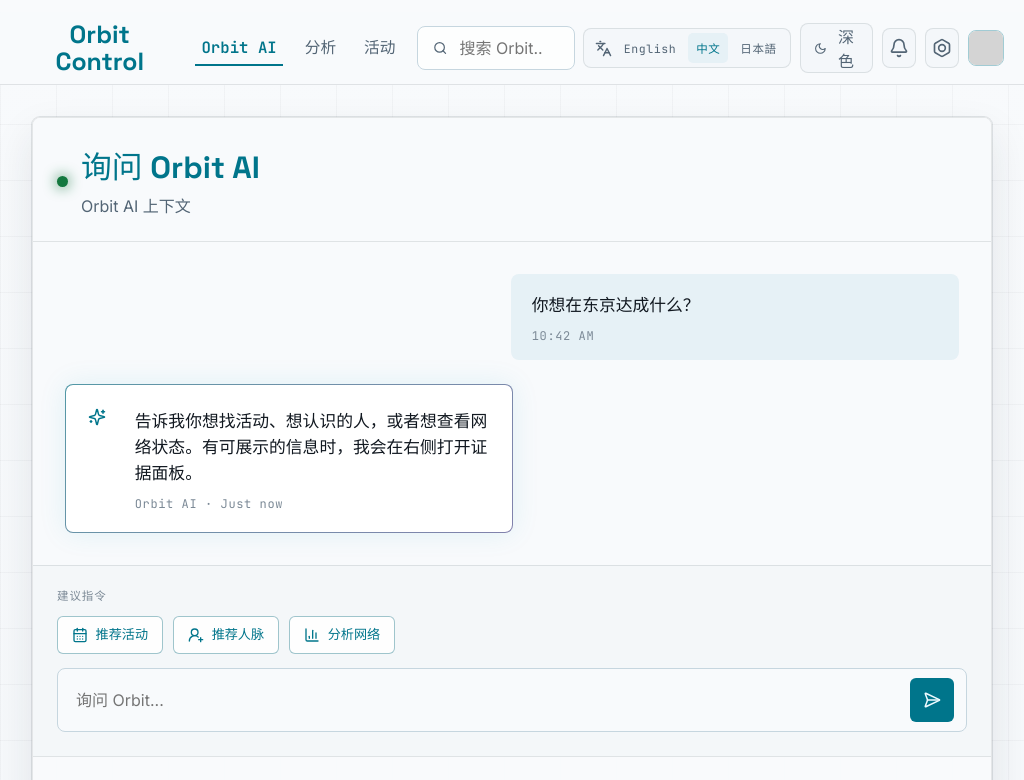
Test: Orbit UI framework › localizes the shell and AI chat content to Japanese
Click the button "日本語" at (758, 48), box [732,33,785,63]
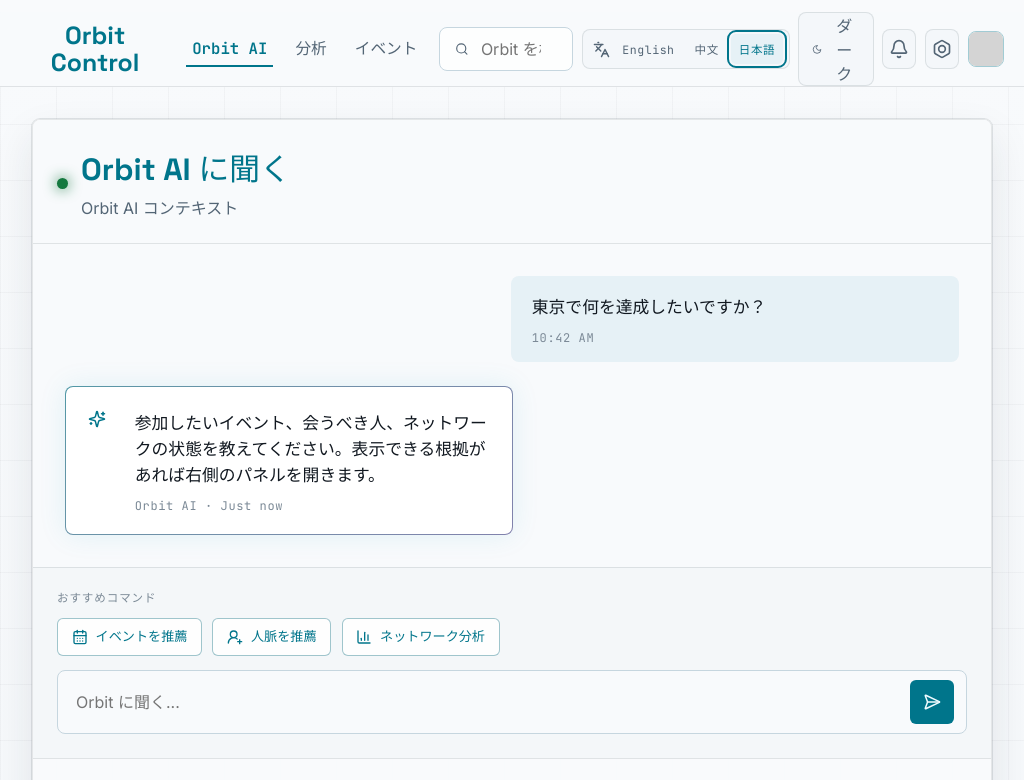
expect the heading "Orbit AI に聞く" is shown: met, box [81,144,291,189]
expect the button "イベントを推薦" is shown: met, box [57,618,202,656]
